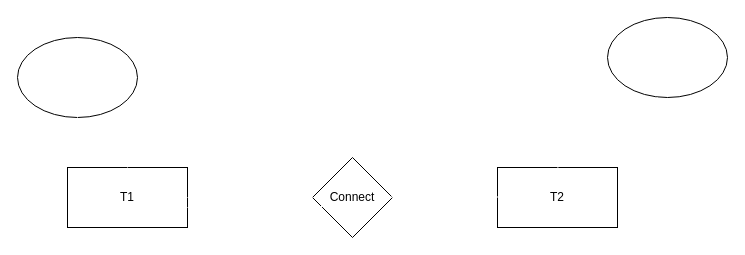
This 745x255 diagram has some shape labels left out. The shapes that lost their labels are listed below. From the top down, each one's centre as x and y in pixels, then its label:
point 77,77: E1
point 667,57: B1
